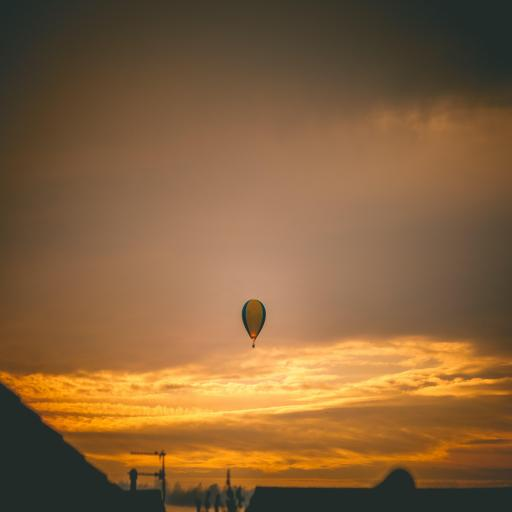hot air ballon: (242, 298, 266, 350)
